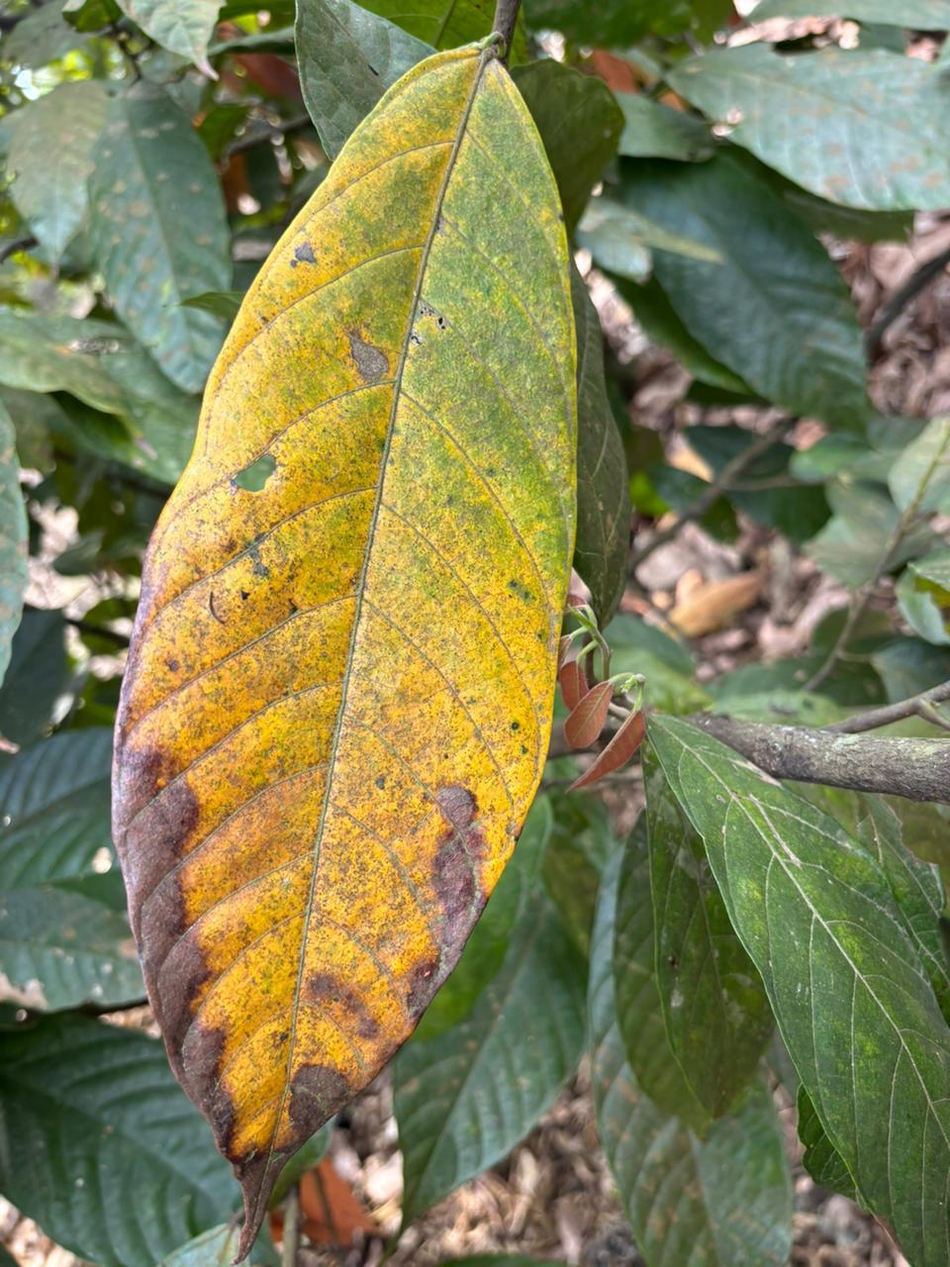deficienciia_fosforo: (113, 37, 577, 1255)
